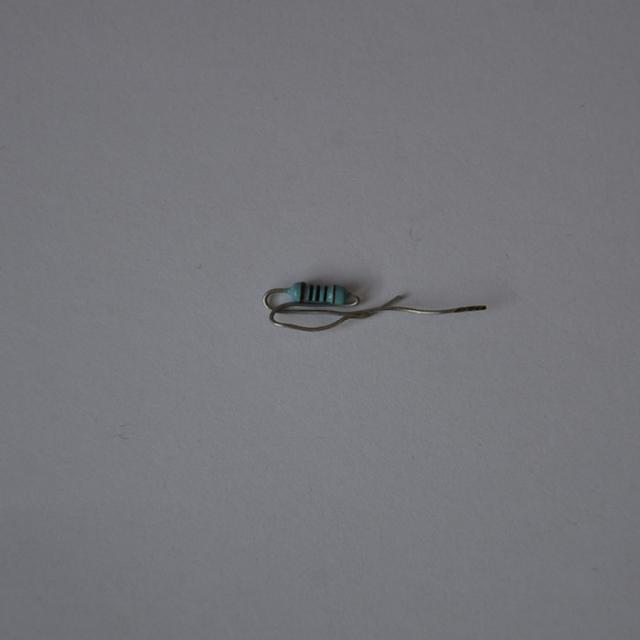Resistor Carbon-Film: (289, 280, 351, 307)
